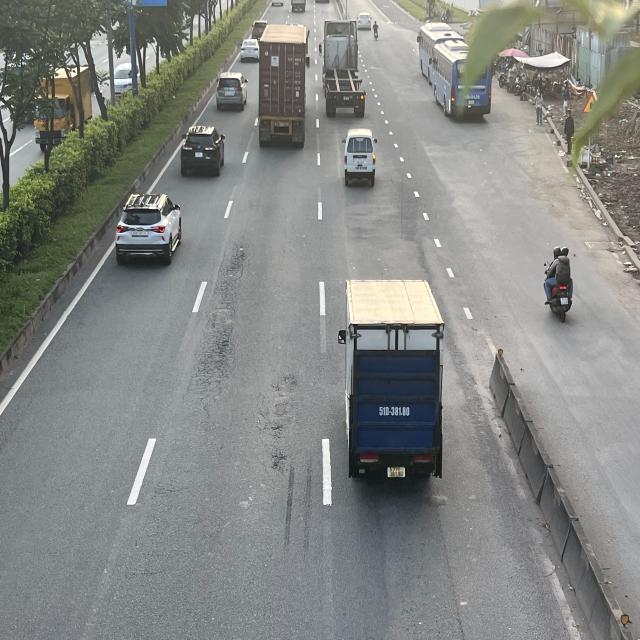car: (116, 192, 183, 264), (182, 124, 227, 177), (215, 70, 248, 112), (239, 38, 260, 64)
coach: (421, 39, 496, 117)
container: (261, 22, 312, 147), (323, 18, 368, 116)
truck: (342, 276, 448, 486)
van: (341, 130, 378, 187)
